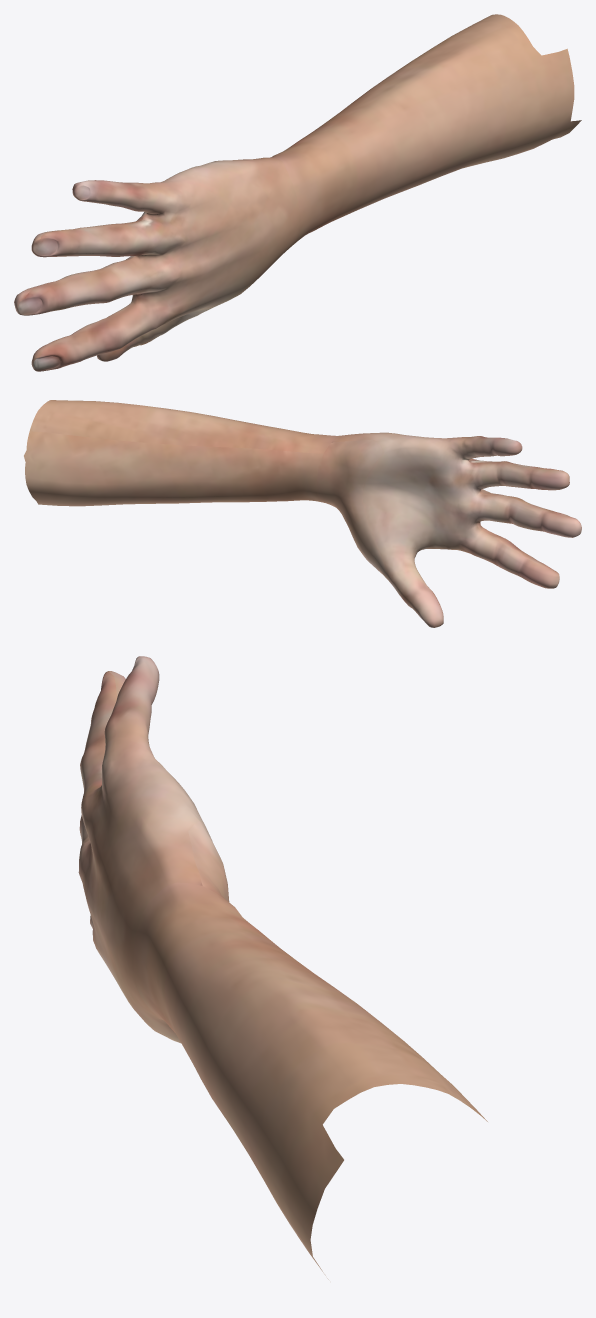
Rendered from hand.glb.
3 renders of one model, top to bottom at view 1: azimuth 30°, elevation 25°; view 2: azimuth 150°, elevation 25°; view 3: azimuth 270°, elevation 25°, orthographic. The views are drawn at different scales.
Parts seen in each view (by area): view 1: hand; view 2: hand; view 3: hand.
Boxes of the visible parts, bbox=[...] form: hand: bbox=[14, 14, 581, 371]; hand: bbox=[24, 400, 581, 627]; hand: bbox=[78, 656, 487, 1279].
Bounding box in the file's own units: 2.12 × 0.7004 × 0.7958.
1 material, 1 textured.
